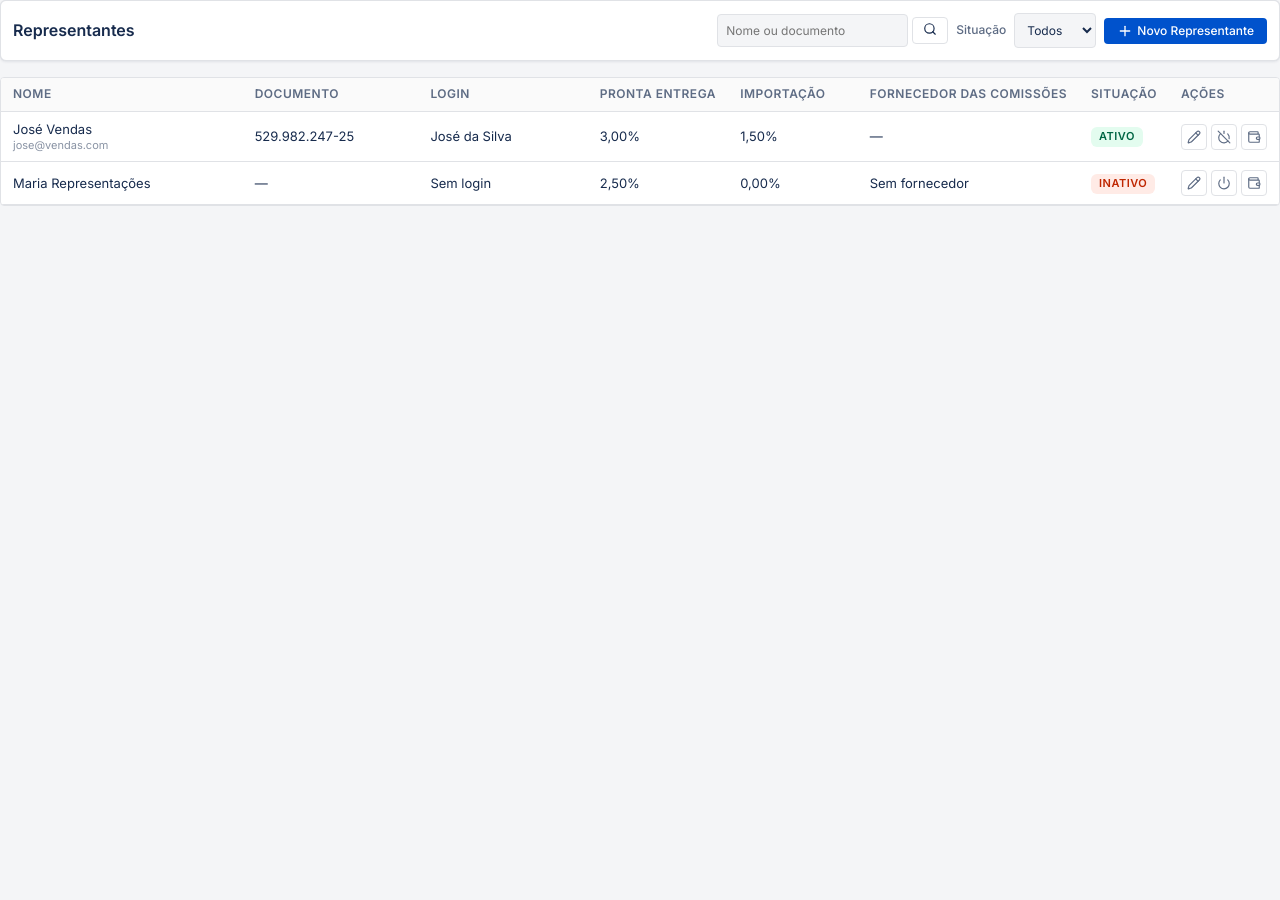
Representantes › cria com documento sem máscara, login, percentuais em pontos-base e opcionais vazios nulos
The width and height of the screenshot is (1280, 900).
expect the text "José Vendas" is shown: met, box top-left (13, 121), bottom-right (92, 137)
Click the button "Novo Representante" at coordinates (1186, 30), box top-left (1104, 18), bottom-right (1267, 44)
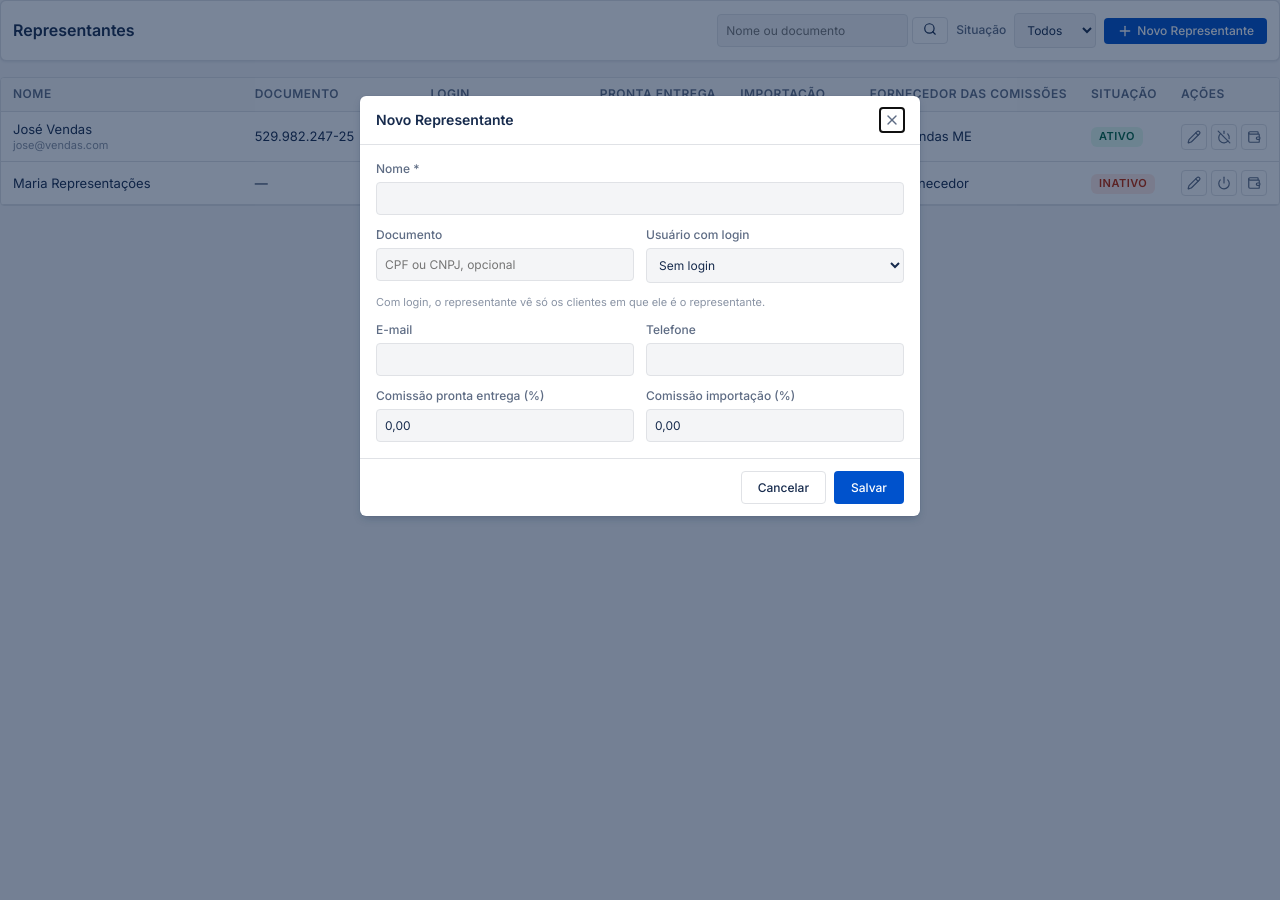
Type "  Ana Representações " into the field labelled "Nome *" at coordinates (640, 198), box top-left (376, 182), bottom-right (904, 215)
Type "529.982.247-25" into the field labelled "Documento" at coordinates (505, 264), box top-left (376, 248), bottom-right (634, 281)
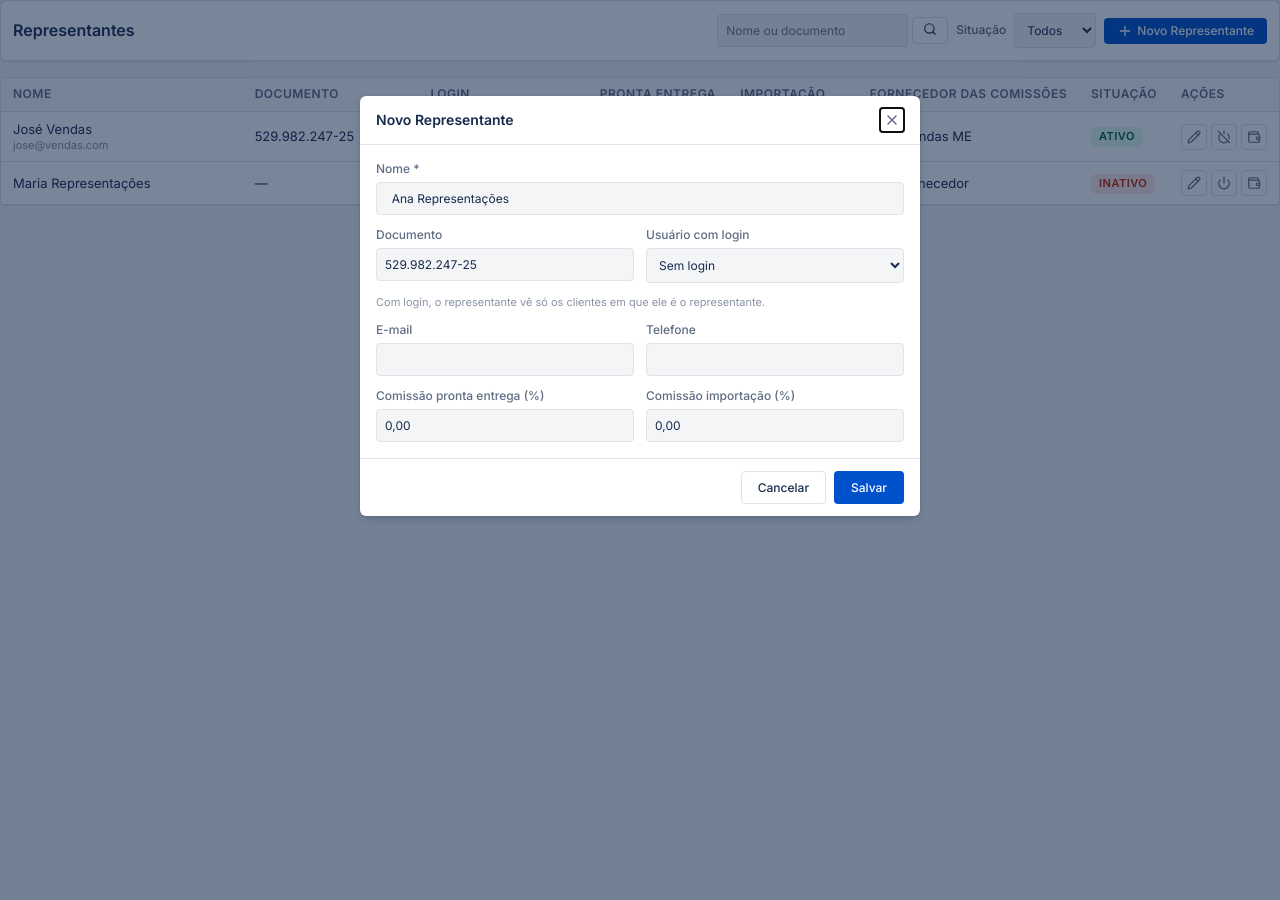
Select "Ana Souza (ana@mia.com)" in the dropdown labelled "Usuário com login" at coordinates (775, 265), box top-left (646, 248), bottom-right (904, 283)
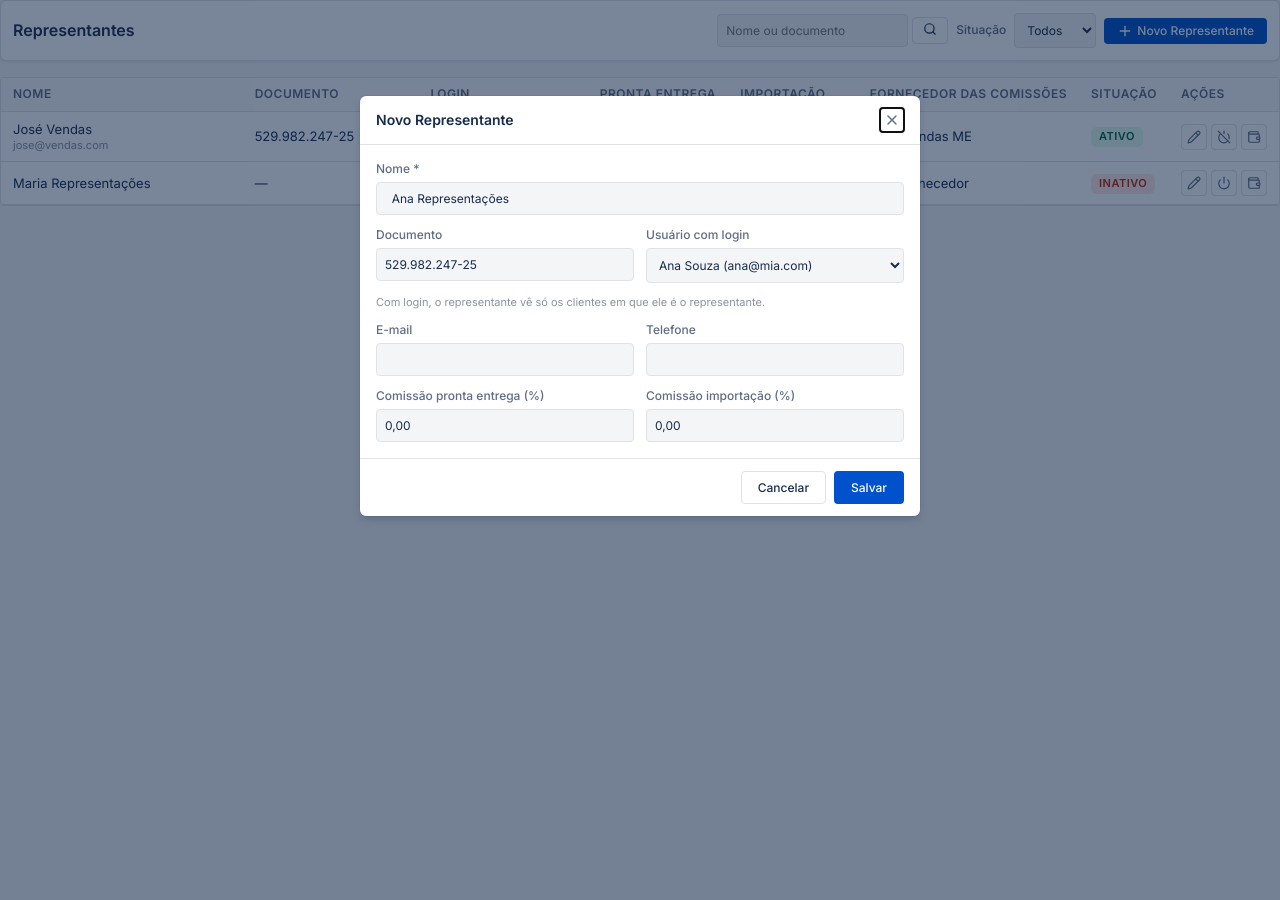
Replace the text in the field labelled "Comissão pronta entrega (%)" with "2,5" at coordinates (505, 425), box top-left (376, 409), bottom-right (634, 442)
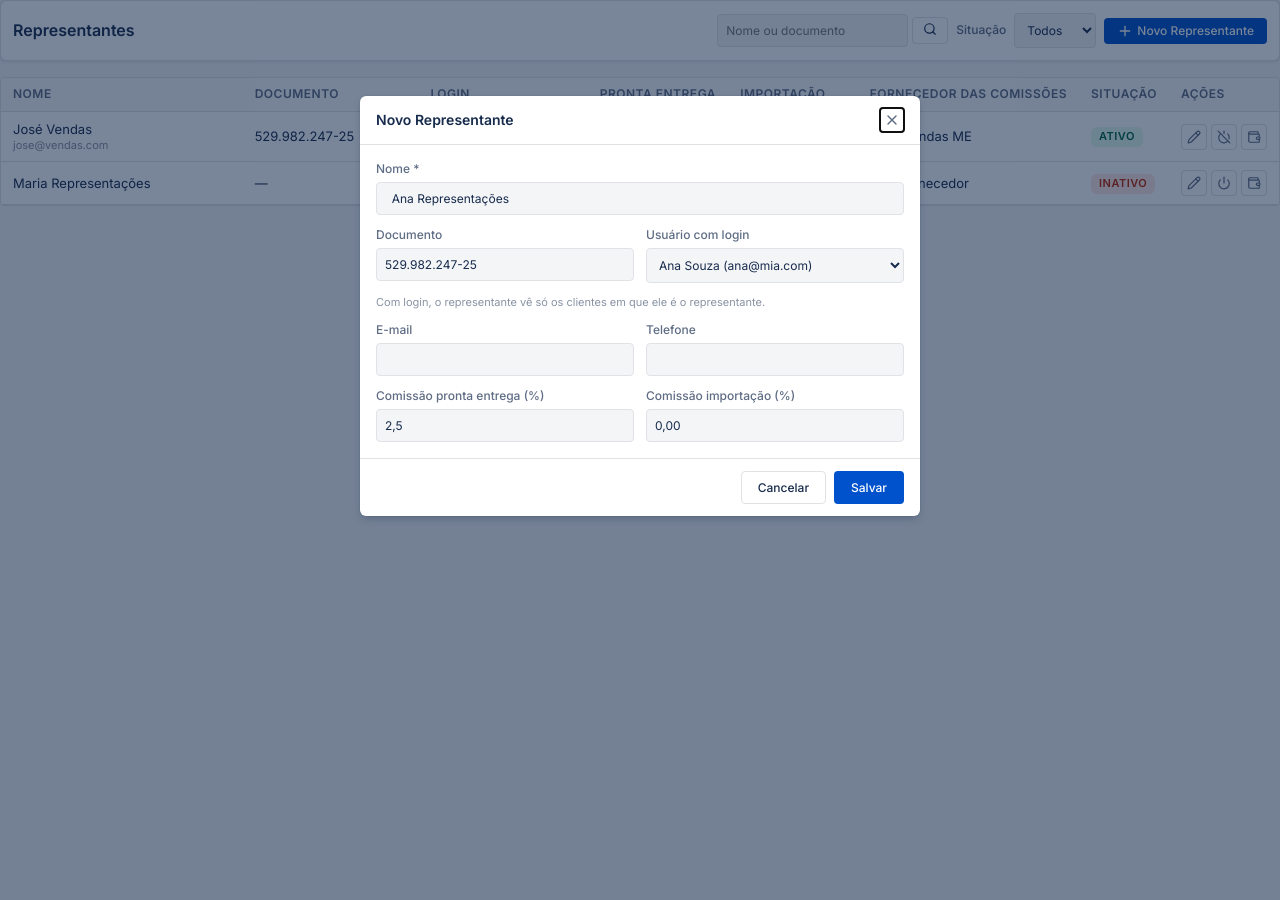
Replace the text in the field labelled "Comissão importação (%)" with "1" at coordinates (775, 425), box top-left (646, 409), bottom-right (904, 442)
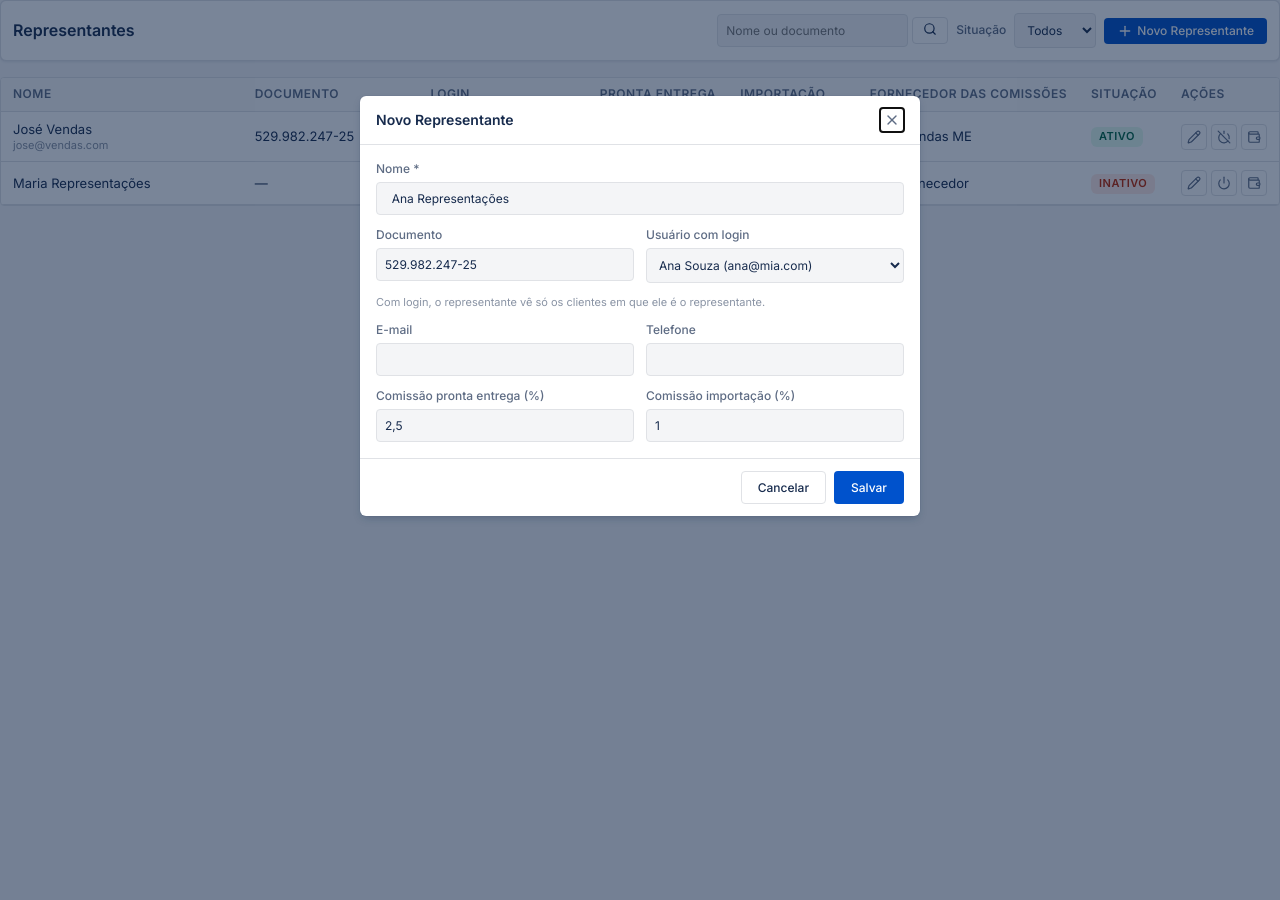
Click the button "Salvar" at coordinates (869, 487), box top-left (834, 471), bottom-right (904, 504)
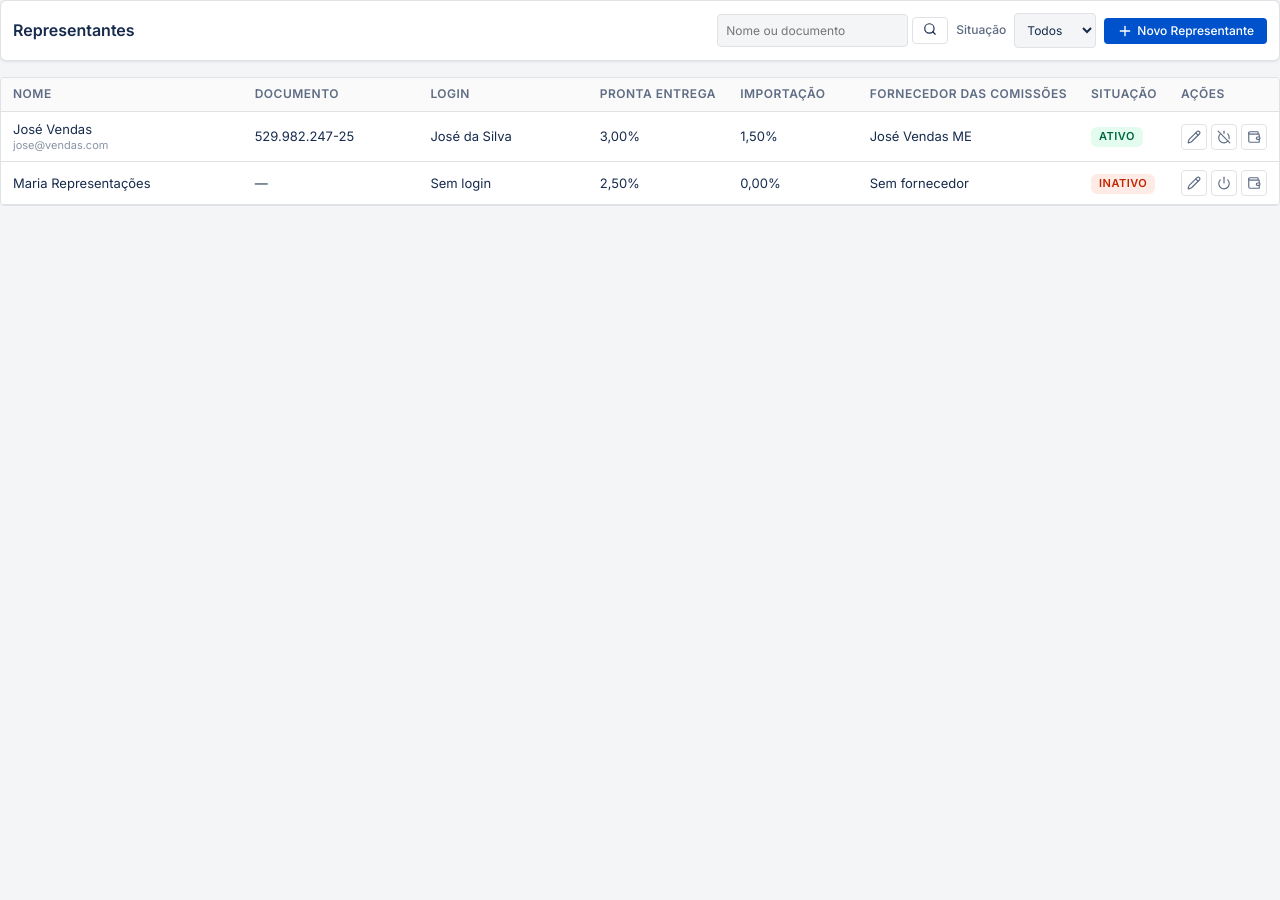
expect the dialog is gone: met
